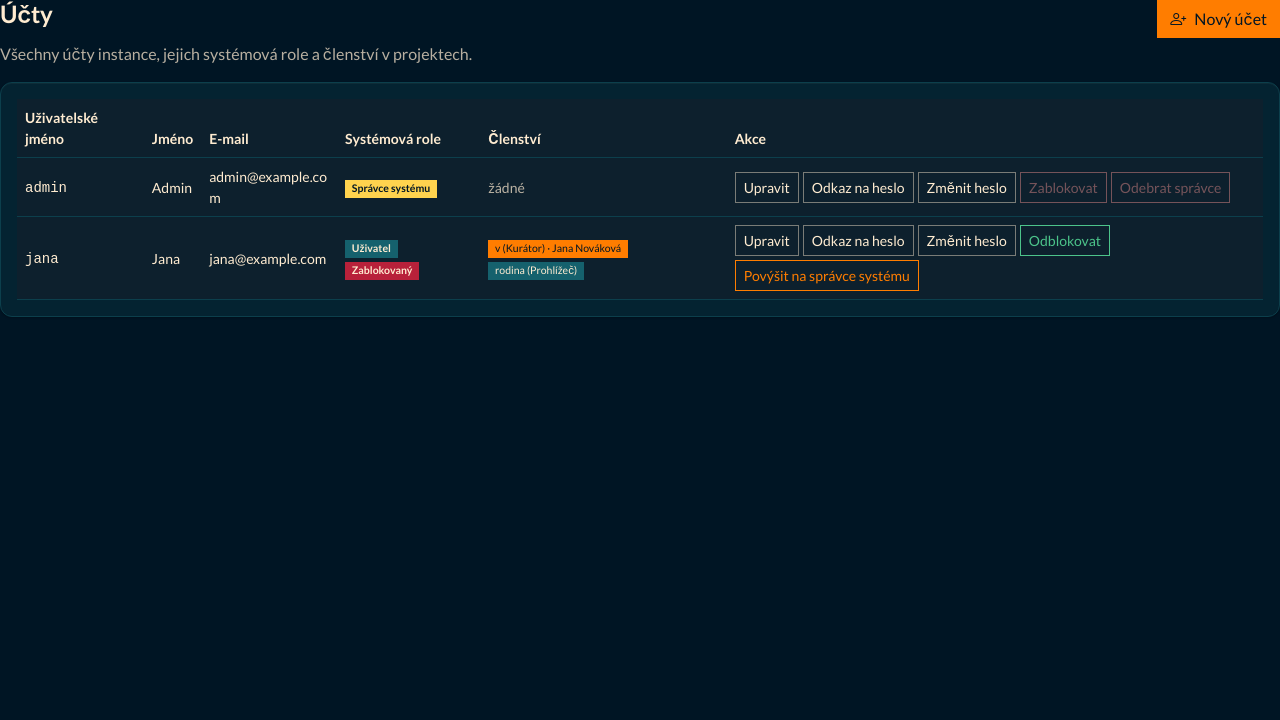
Test case: SystemUsersPage › creates an account with no membership and says where it joins a project
Expected: the text "jana" is shown, [25,250,59,266]
Click the button "Nový účet" at (1219, 19), box [1157,0,1279,38]
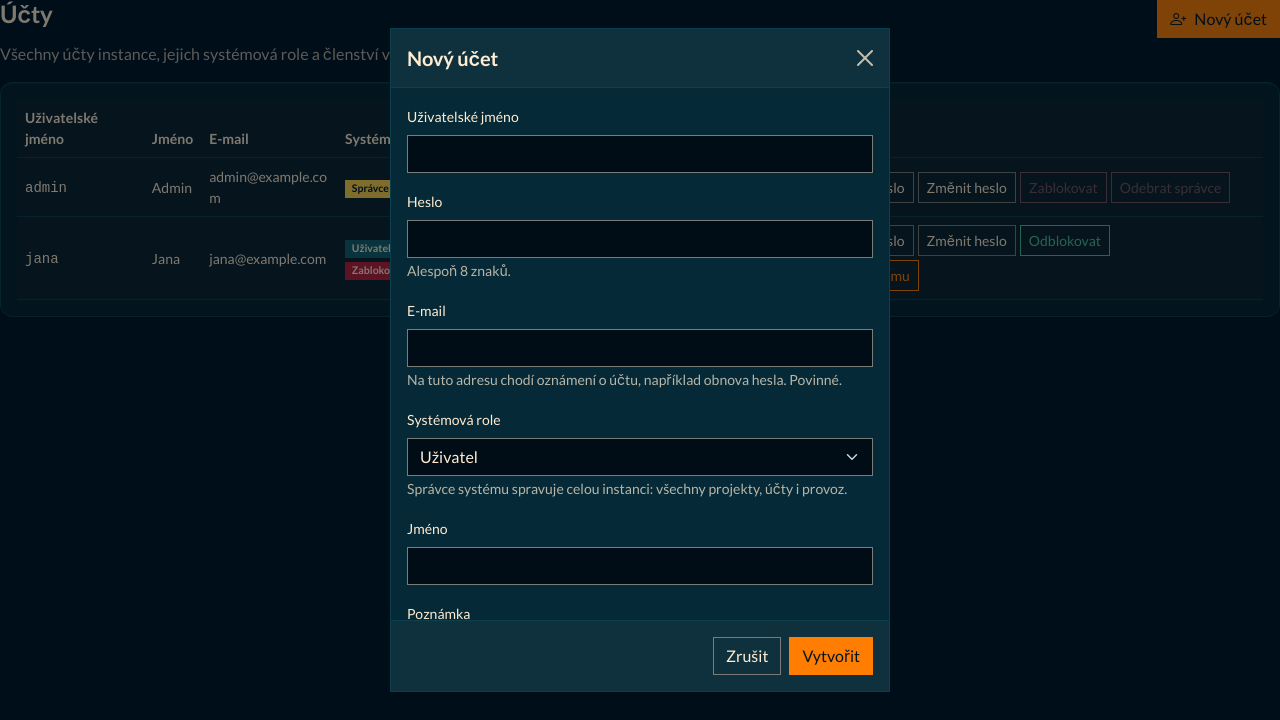
Type "petr" into the field labelled "Uživatelské jméno" at (640, 154), box [407,135,873,173]
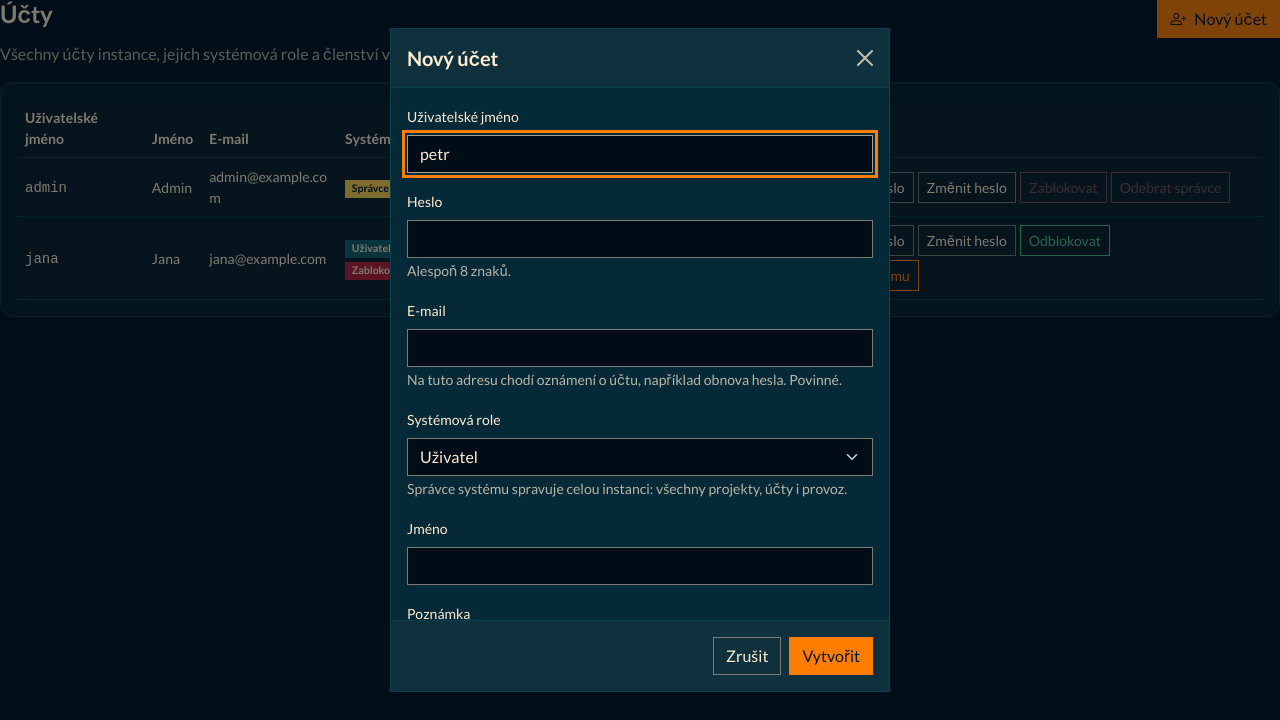
Type "correct horse" into the password field labelled "Heslo" at (640, 239), box [407,220,873,258]
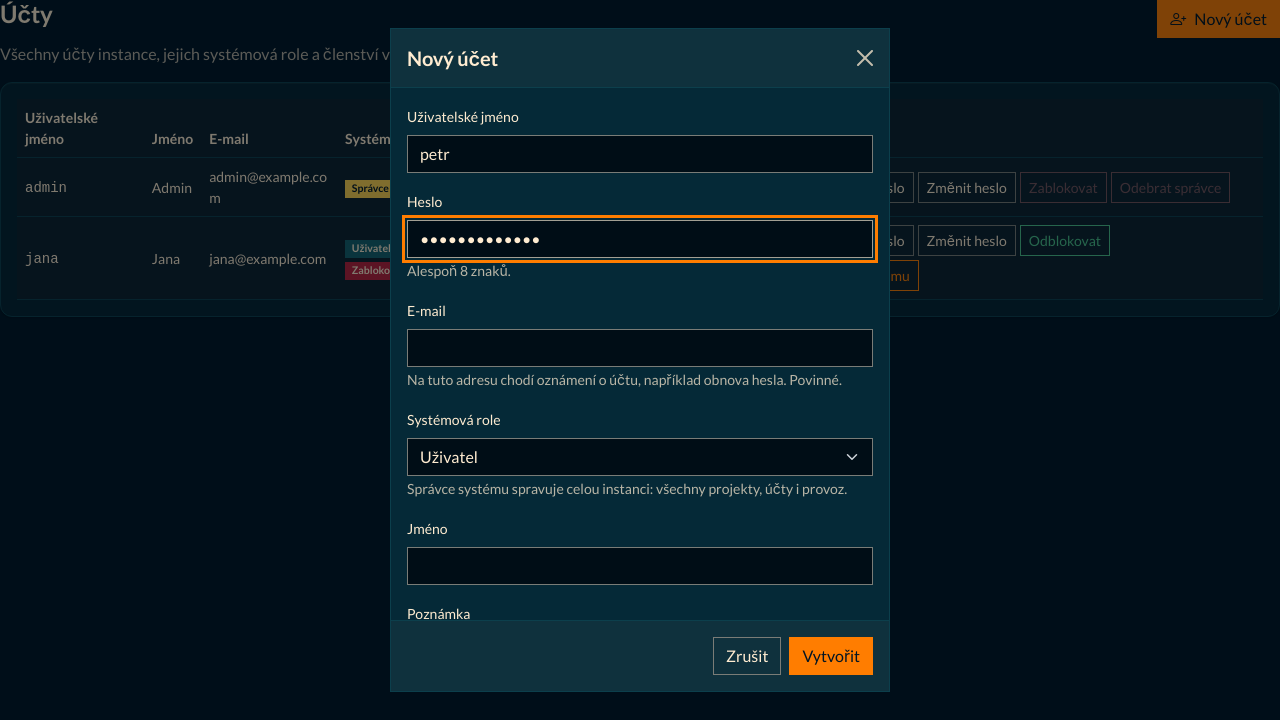
Type "petr@example.com" into the field labelled "E-mail" at (640, 348), box [407,329,873,367]
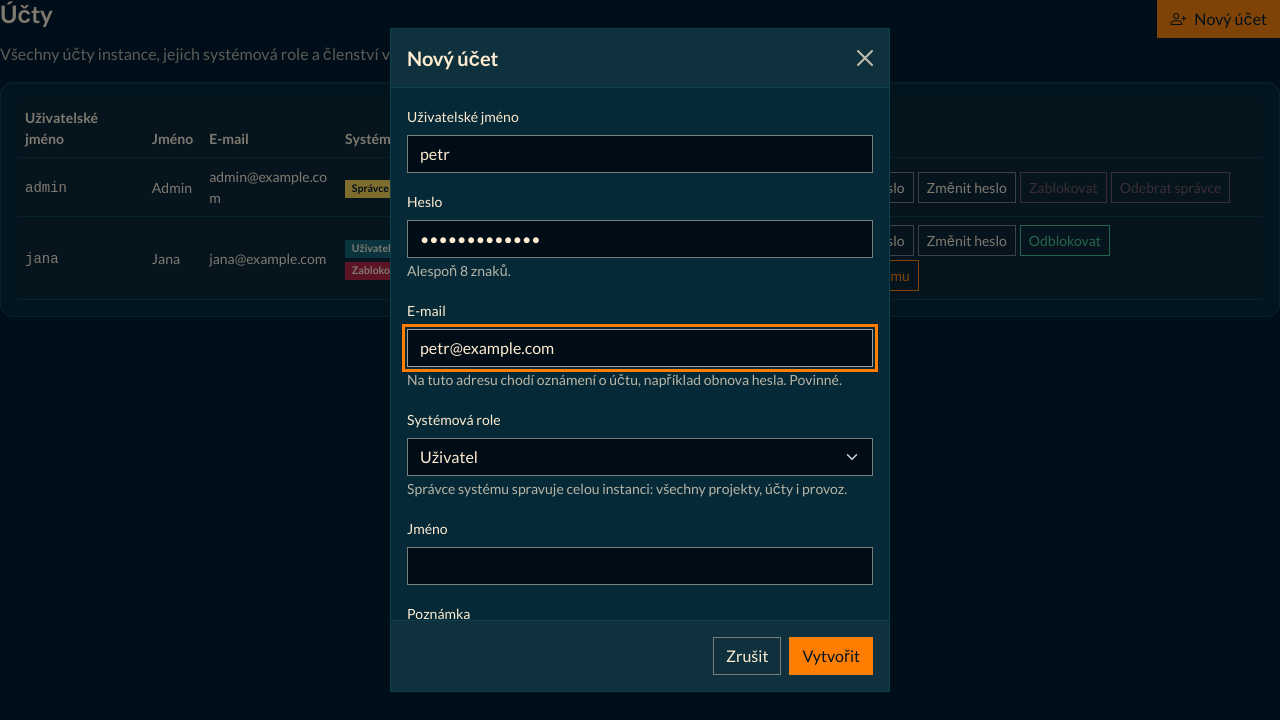
Type "Petr" into the field labelled "Jméno" at (640, 566), box [407,547,873,585]
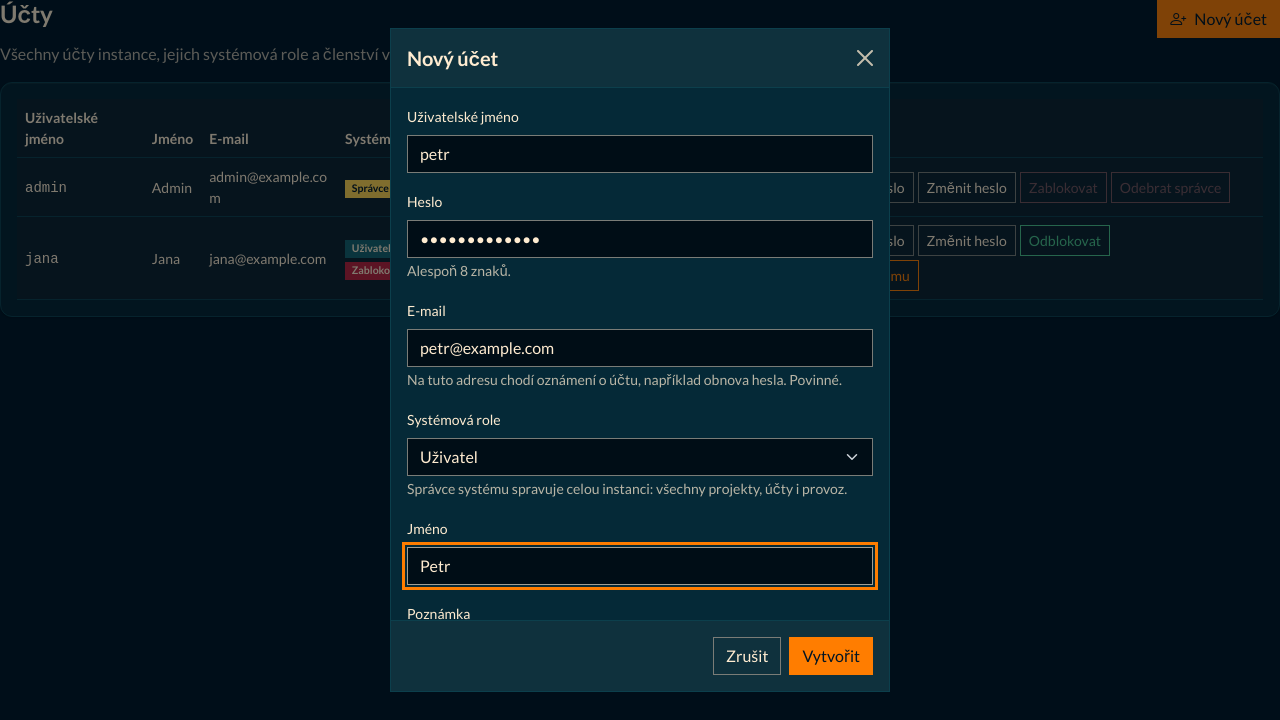
Click the button "Vytvořit" at (831, 656), box [789,637,873,675]
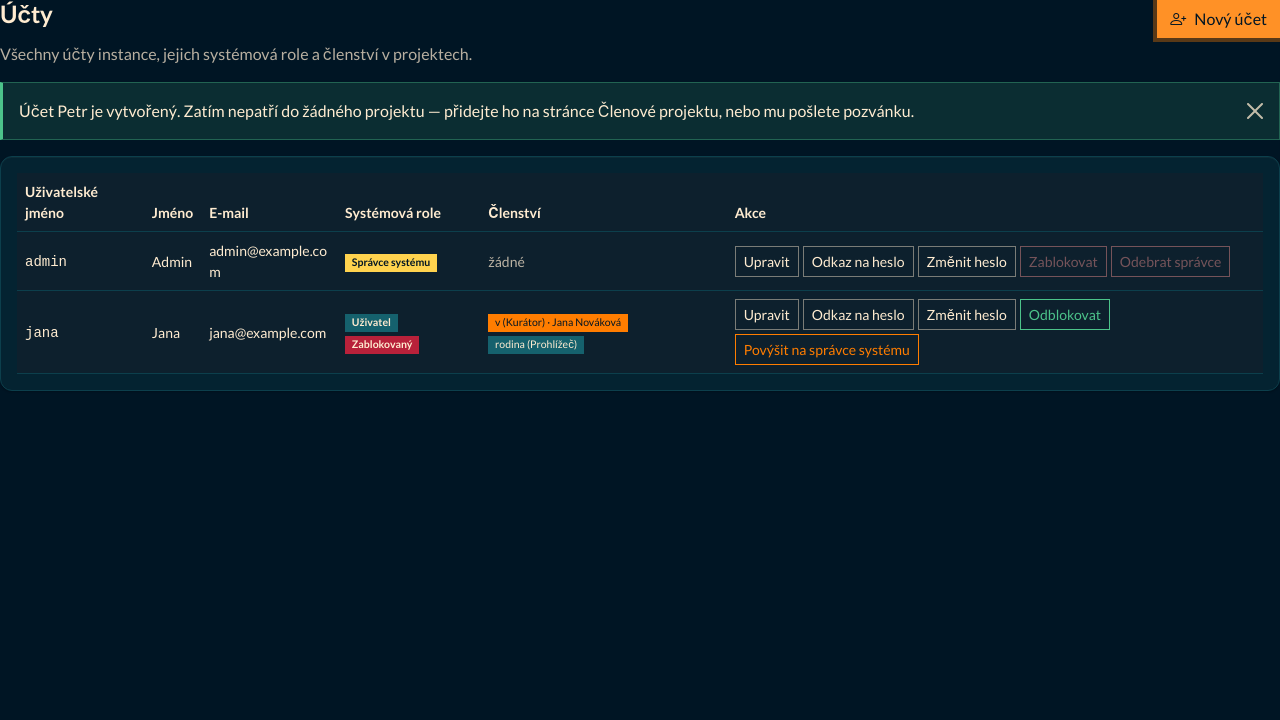
Now the text "Účet Petr je vytvořený" is shown, box [19,101,914,120]
